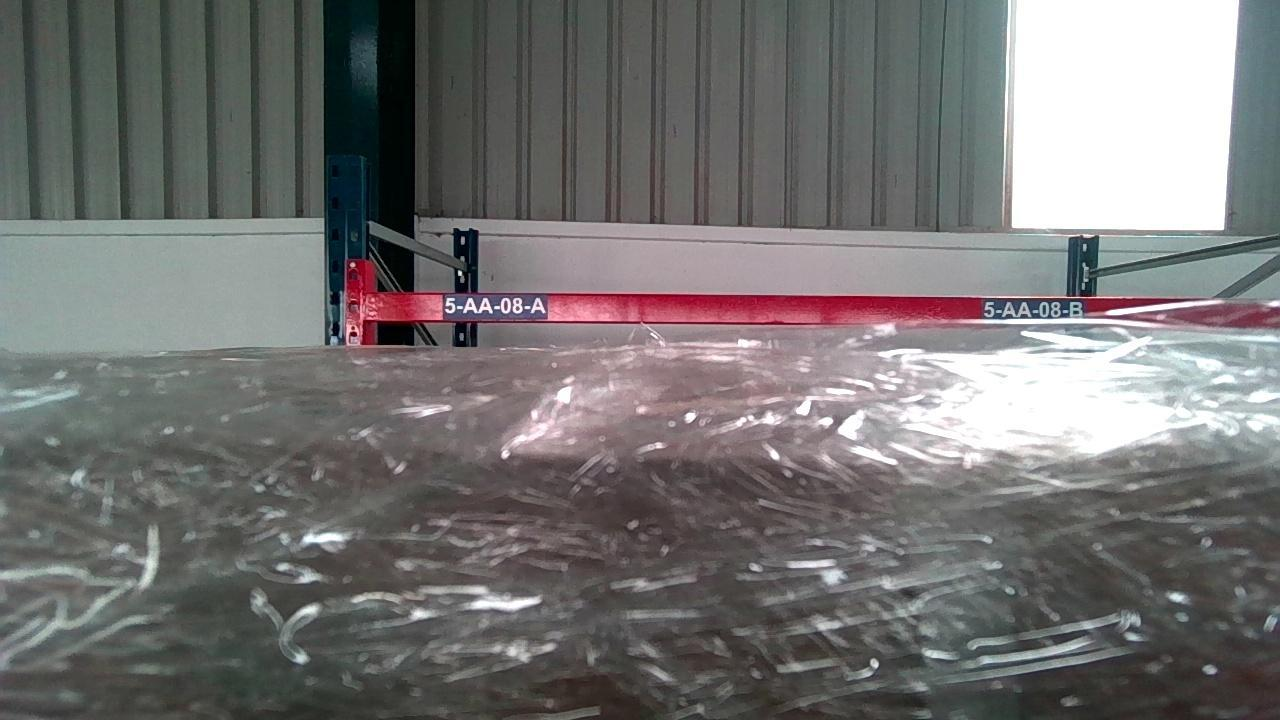h_rack: (371, 294, 1275, 328)
